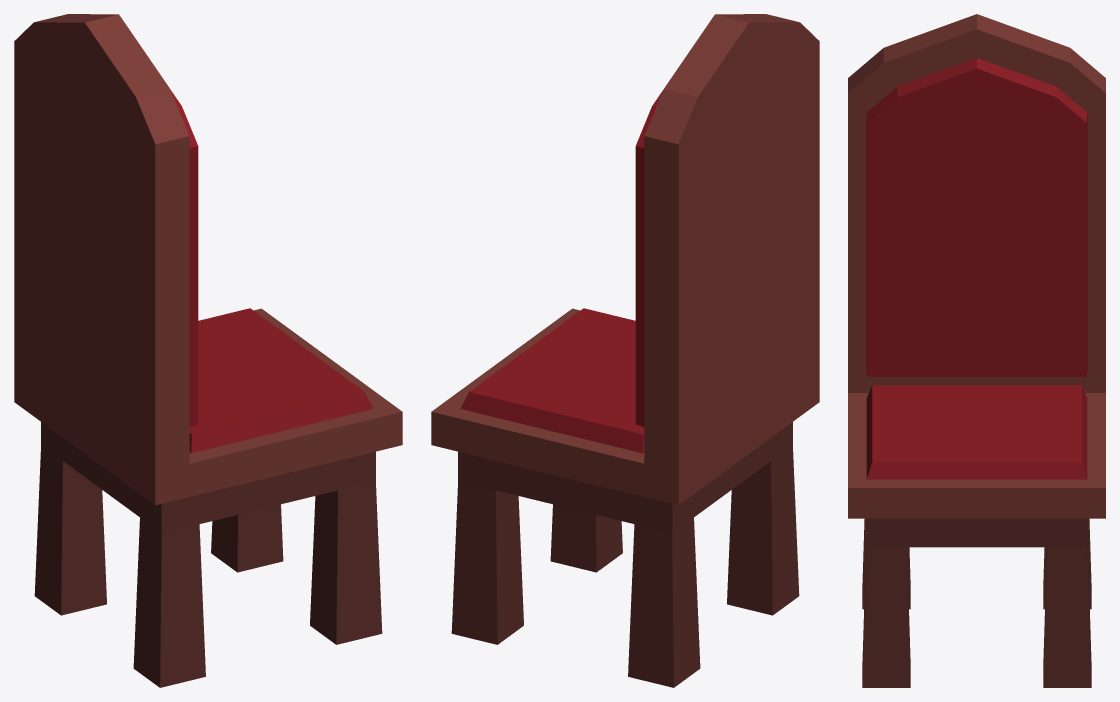
Rendered from quaternius-furniture-chaircushioned.glb.
3 renders of one model, left to right at view 1: azimuth 30°, elevation 25°; view 2: azimuth 150°, elevation 25°; view 3: azimuth 270°, elevation 25°, orthographic. The views are drawn at different scales.
Visible parts, largest first — view 1: Cushioned Chair; view 2: Cushioned Chair; view 3: Cushioned Chair.
Boxes of the visible parts, left/top/right/bottom form: Cushioned Chair: left=14, top=14, right=402, bottom=687; Cushioned Chair: left=431, top=14, right=819, bottom=687; Cushioned Chair: left=848, top=14, right=1105, bottom=687.
Bounding box in the file's own units: 0.4379 × 1.05 × 0.4327.
